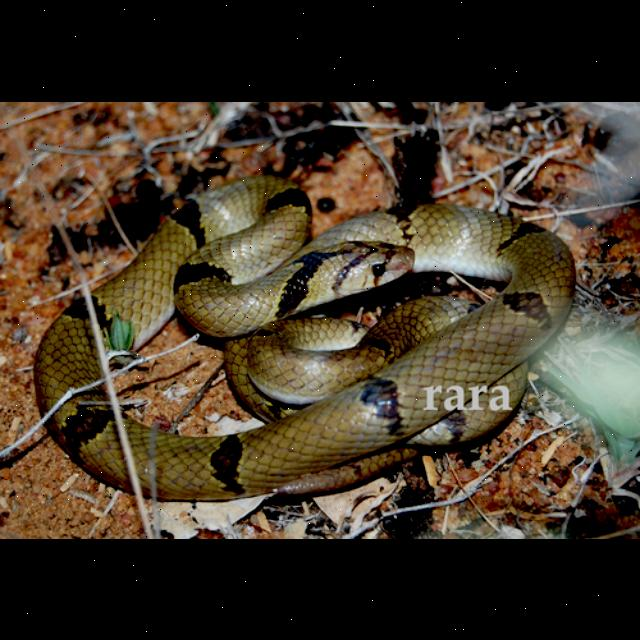snake: (30, 164, 582, 506)
